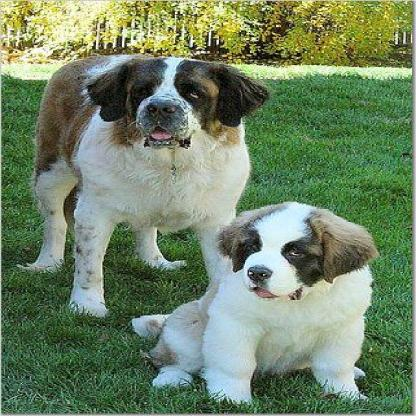Saint_Bernard: (12, 52, 262, 318), (127, 200, 373, 407)
